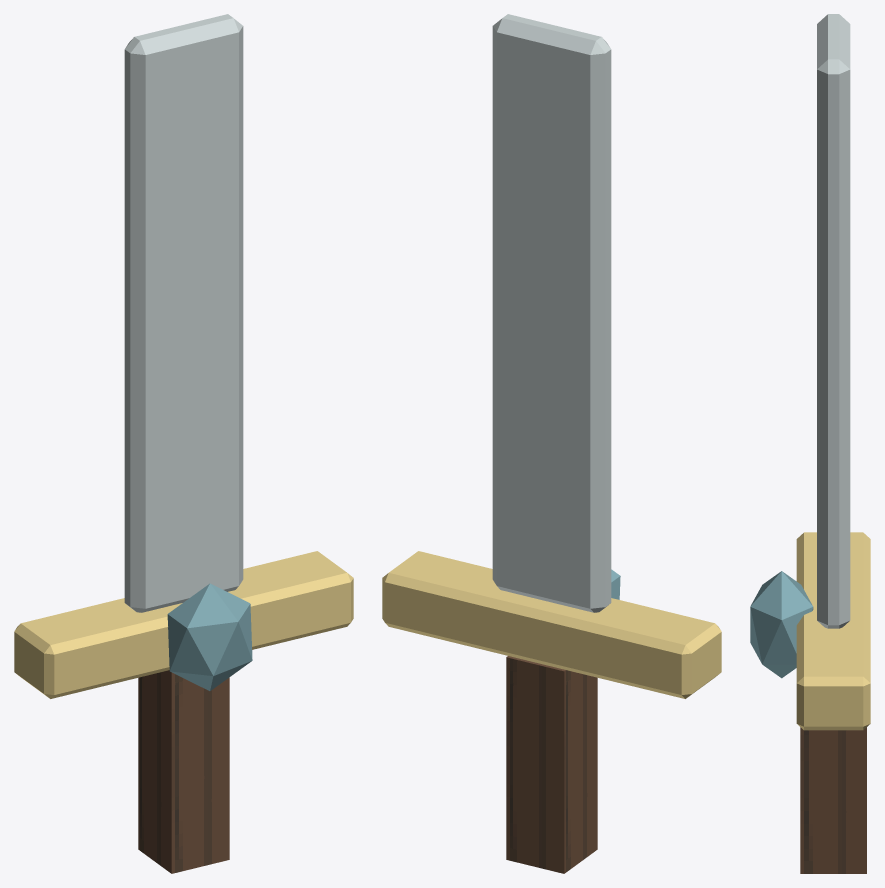
Rendered from sword_tier3.glb.
The picture shows the model from 3 angles, left to right: view 1: azimuth 30°, elevation 25°; view 2: azimuth 150°, elevation 25°; view 3: azimuth 270°, elevation 25°; orthographic projection.
Visible parts, largest first — view 1: Blade.002, Guard.002, Grip.002, Gem.001; view 2: Blade.002, Guard.002, Grip.002; view 3: Blade.002, Guard.002, Grip.002, Gem.001.
Boxes of the visible parts, <box> form: Blade.002: <box>124,14,243,612</box>; Guard.002: <box>14,551,353,698</box>; Grip.002: <box>138,670,229,873</box>; Gem.001: <box>167,583,252,690</box>; Blade.002: <box>492,14,611,612</box>; Guard.002: <box>382,551,721,698</box>; Grip.002: <box>506,656,597,873</box>; Blade.002: <box>817,14,850,628</box>; Guard.002: <box>796,532,870,730</box>; Grip.002: <box>800,727,866,873</box>; Gem.001: <box>750,571,813,678</box>.
Bounding box in the file's own units: 0.48 × 1.23 × 0.1625.
Materials: 4 (1 with a texture image).
